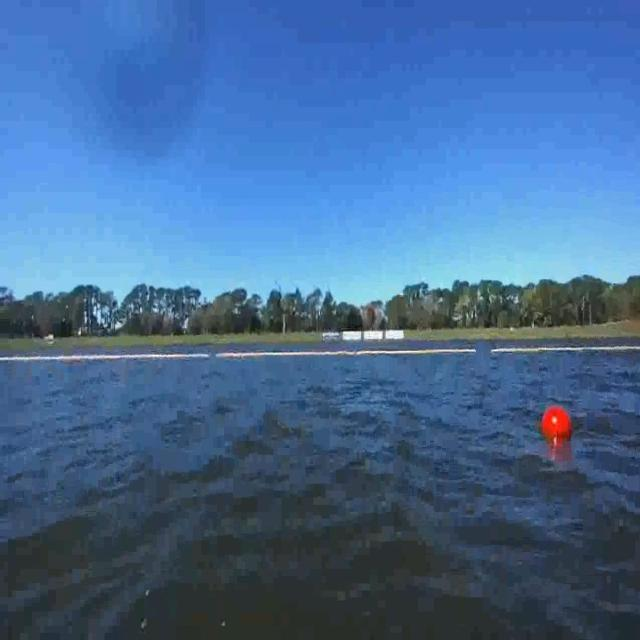red-buoy: (541, 407, 571, 442)
